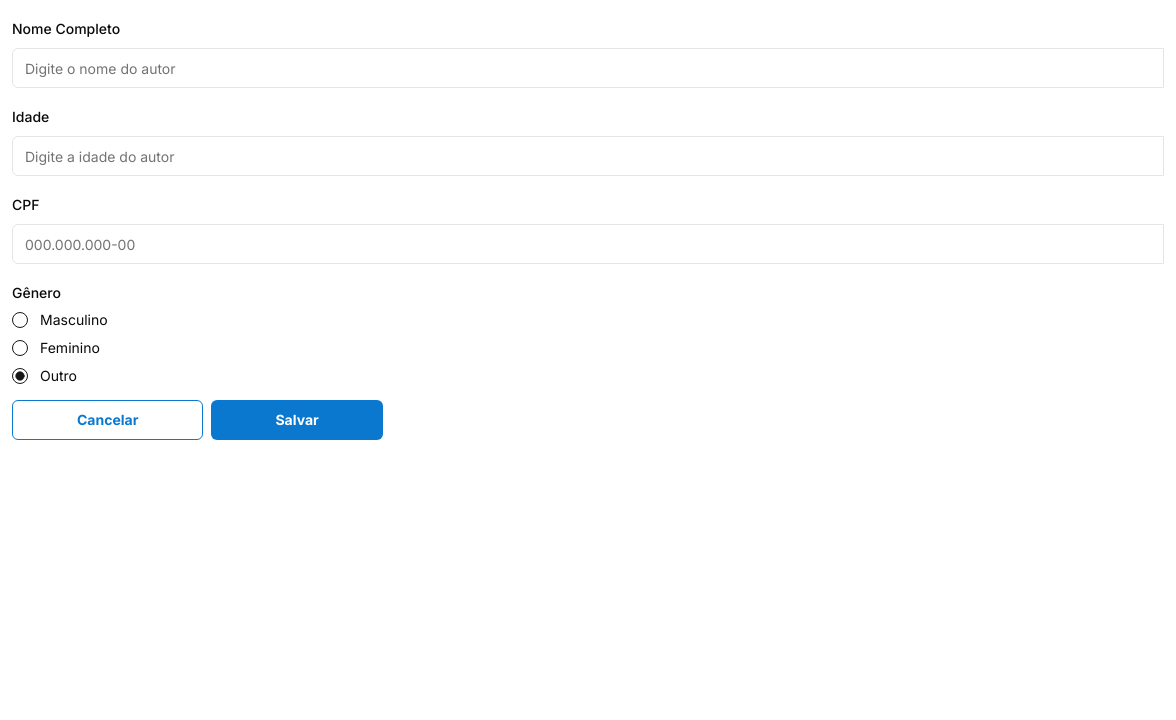
Test case: AuthorForm › shows validation errors when submitting invalid data
What coordinates should you click on to do the following:
click the button "Salvar"
I would click on:
 (297, 420)
Its box is [211,400,383,440].
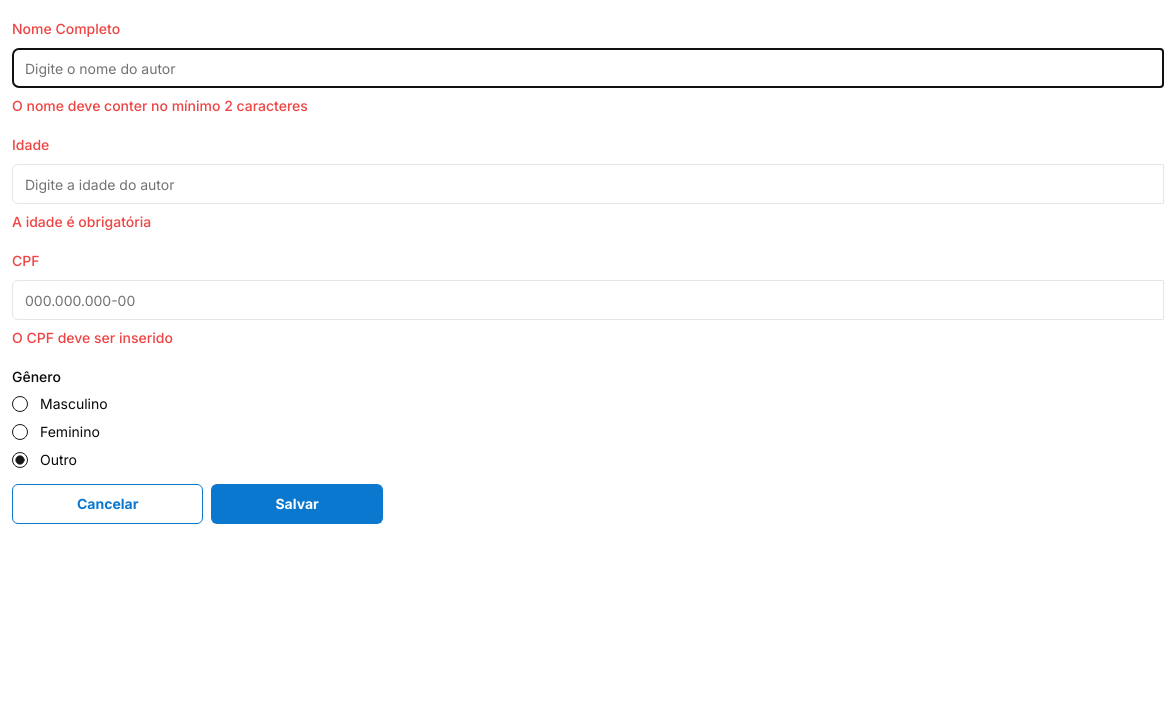
Expected: the text "O nome deve conter no mínimo 2 caracteres" is shown, [12,97,308,114]
Expected: the text "A idade é obrigatória" is shown, [12,213,151,230]
Expected: the text "O CPF deve ser inserido" is shown, [12,329,173,346]
